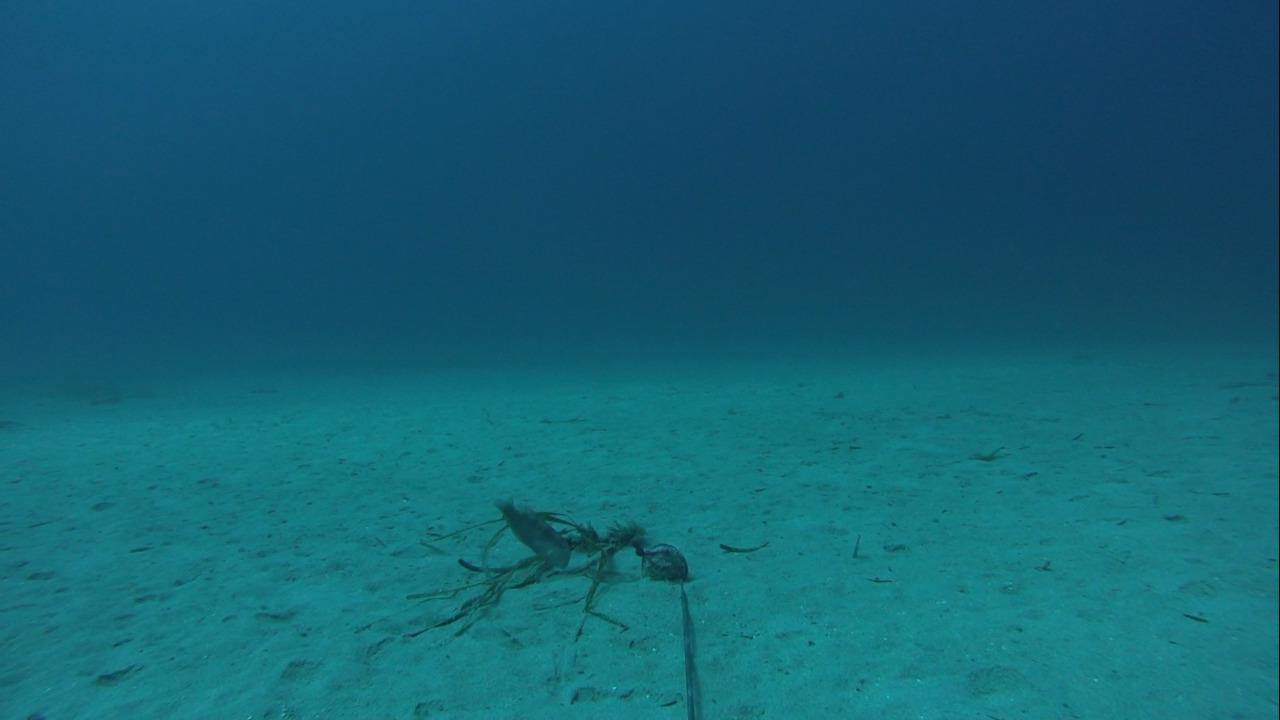raor: (493, 490, 573, 572)
